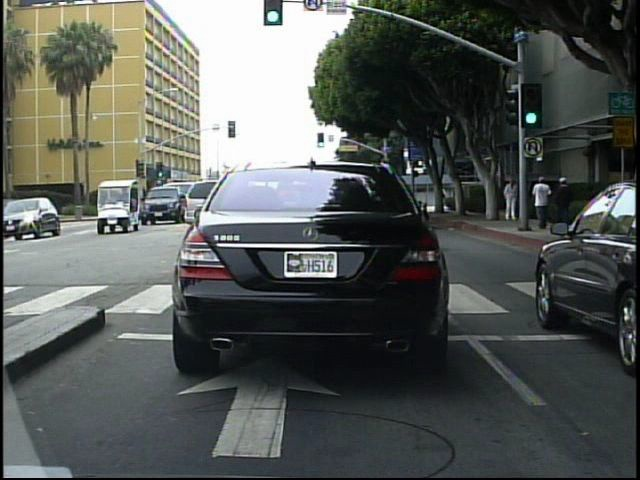person: (555, 171, 580, 238), (532, 173, 557, 235), (503, 177, 521, 225), (437, 182, 451, 215)
